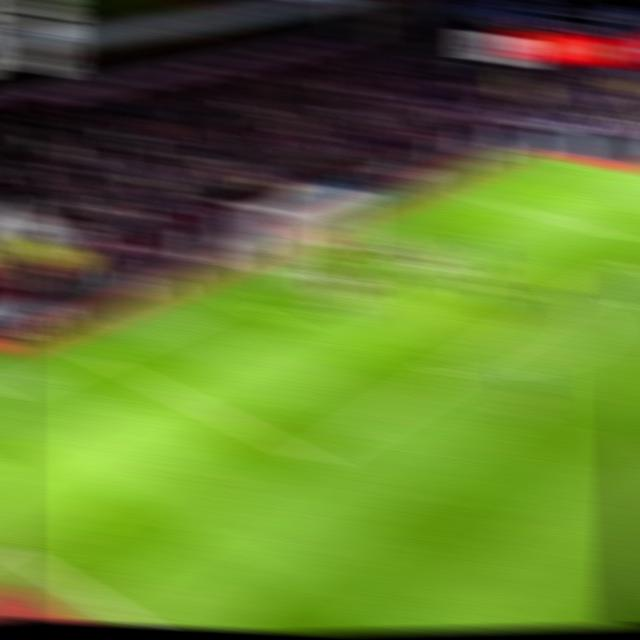bigarea_bottom_inner: (293, 449, 331, 471)
bigarea_bottom_outter: (77, 346, 113, 367)
bigarea_top_outter: (453, 188, 486, 206)
bottom_arc_area_intersection: (432, 359, 472, 386)
corner: (536, 155, 570, 167)
smallarea_bottom_inner: (270, 314, 307, 338)
smallarea_bottom_outter: (211, 290, 245, 310)
smallarea_top_inner: (431, 238, 465, 261)
smallarea_top_outter: (375, 221, 407, 238)
top_arc_area_intersection: (558, 285, 595, 310)
